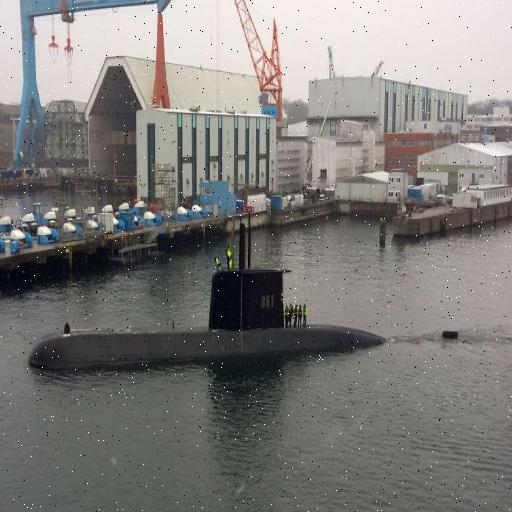submarine: (28, 203, 462, 374)
